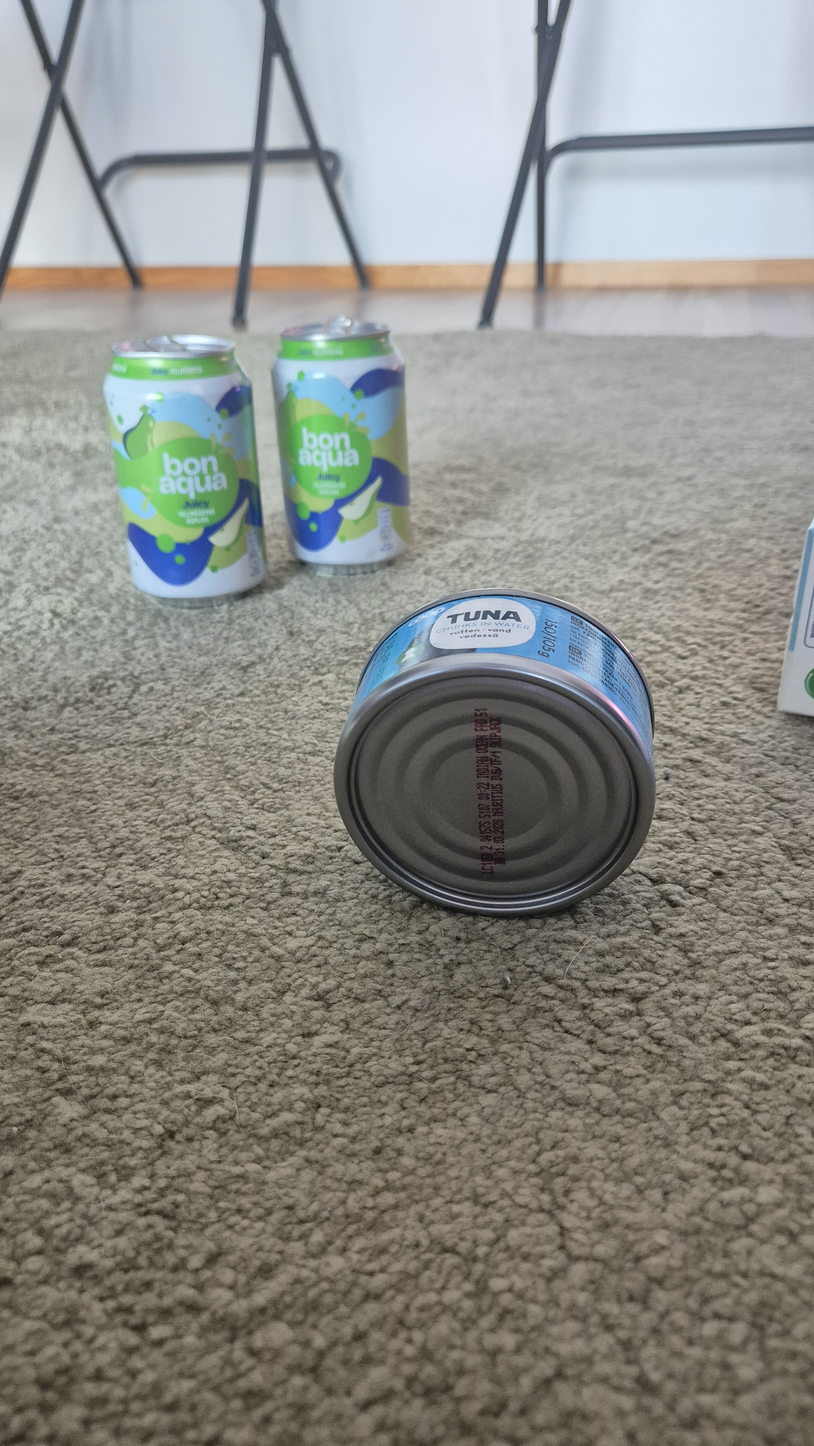Konservburk: (334, 588, 656, 918)
Pantburk: (102, 334, 268, 609), (271, 316, 412, 576)
